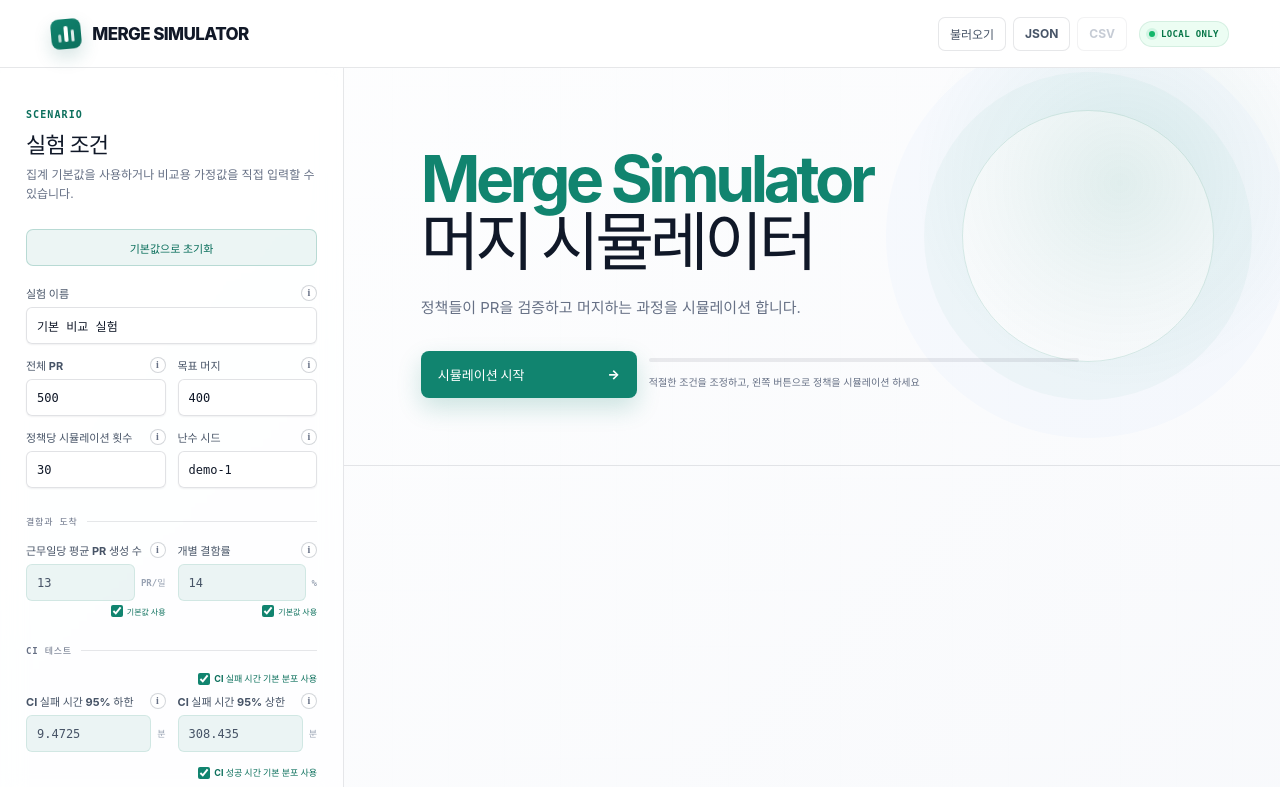
it: replays the selected experiment snapshot by policy instance id
The image size is (1280, 787).
Click the button "시뮬레이션 시작 →" at (529, 374), box left=421, top=351, right=637, bottom=398
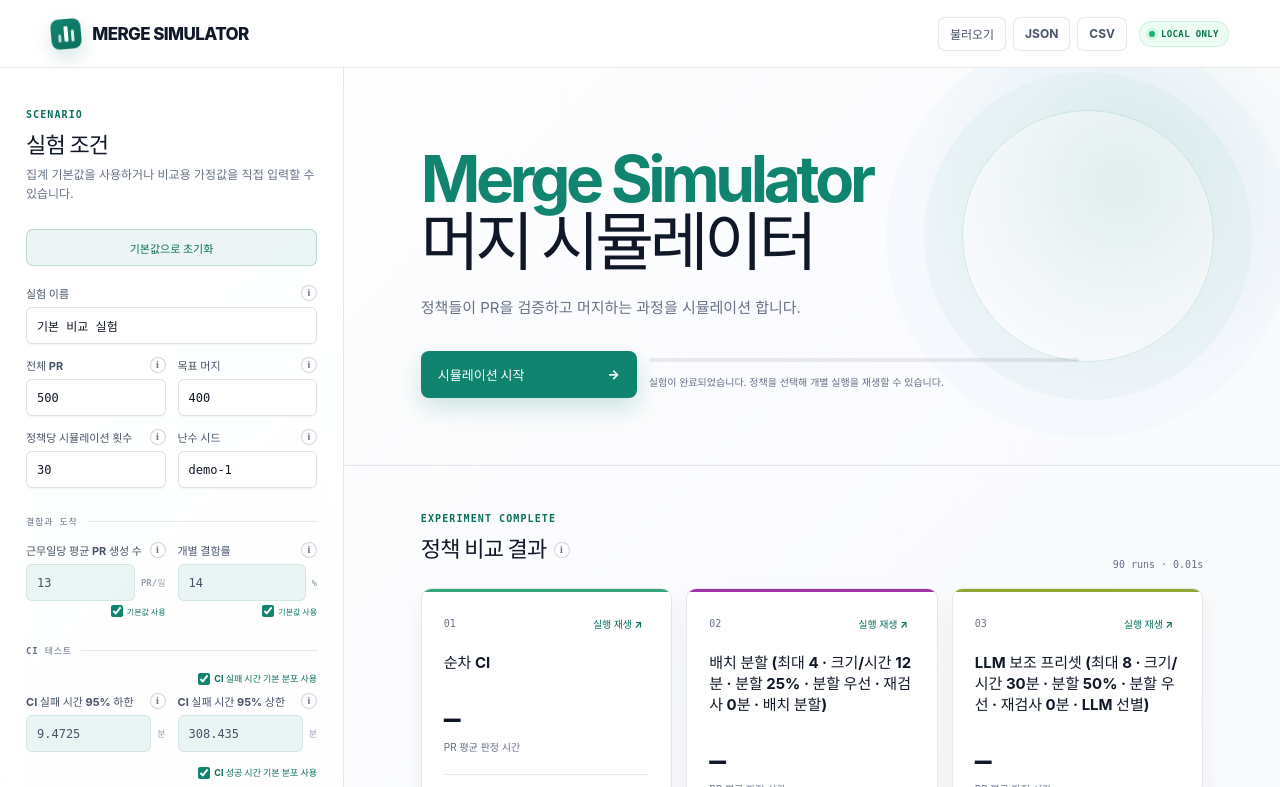
Result: the heading "정책 비교 결과" is shown at left=421, top=531, right=546, bottom=563
Replace the text in the number field labelled "전체 PR" with "777" at (96, 398), box left=26, top=379, right=166, bottom=416
(page scrolled)
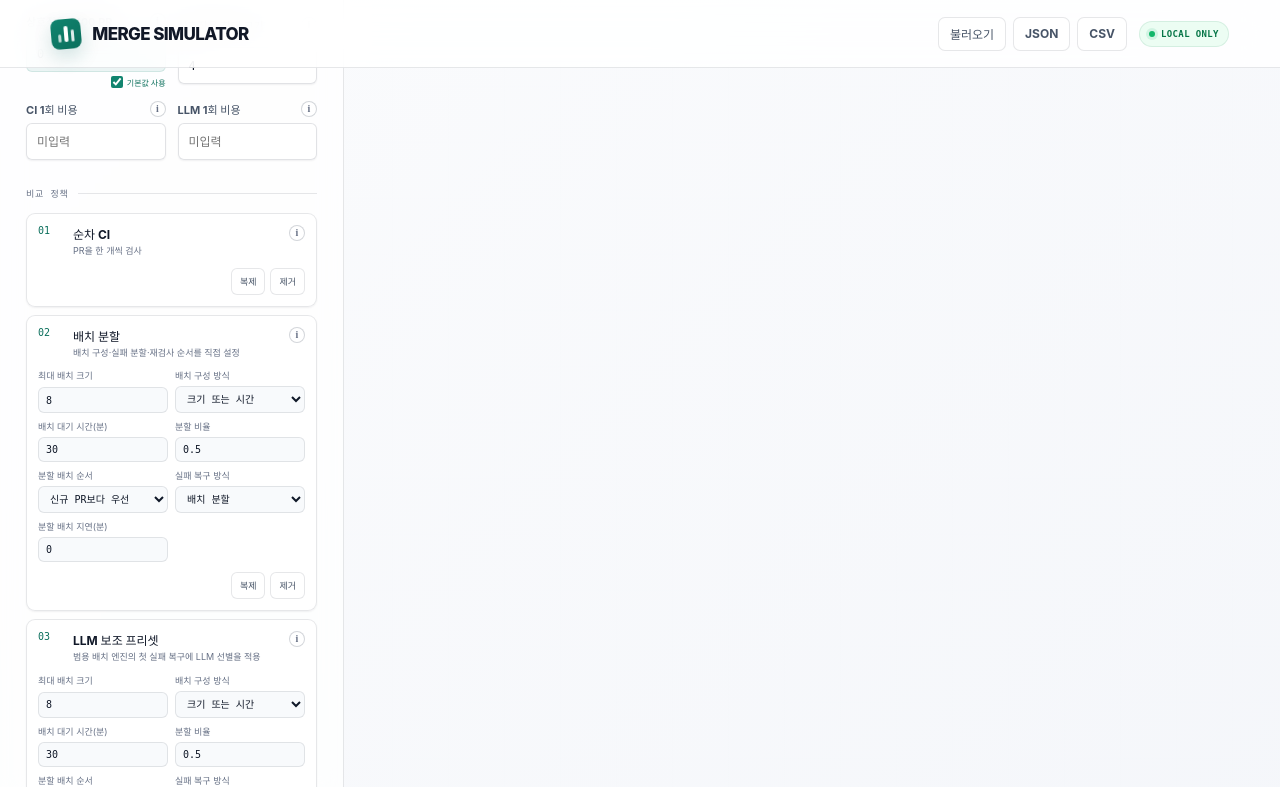
Replace the text in the number field named "2번 배치 분할 최대 배치 크기" with "16" at (103, 400), box left=38, top=387, right=168, bottom=413
(page scrolled)
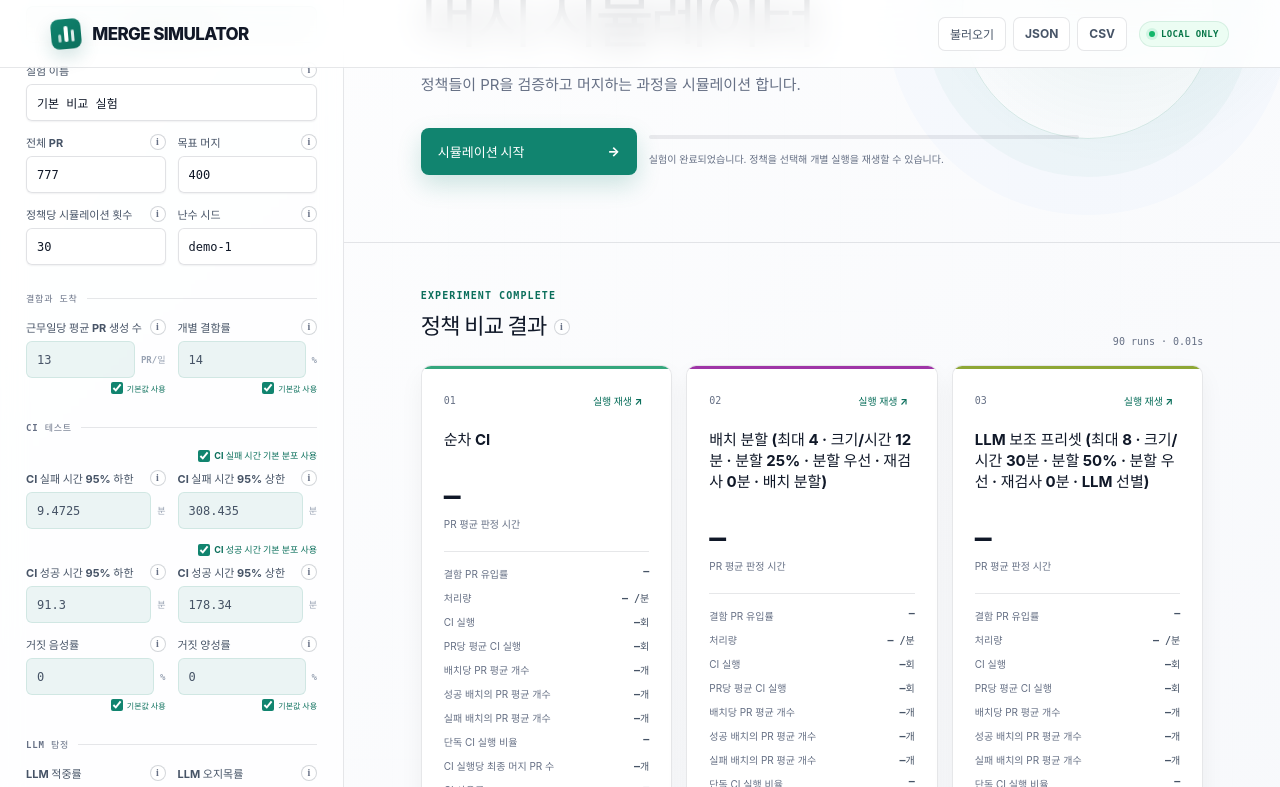
Click the 2nd button "실행 재생 ↗" at (883, 400), box left=851, top=388, right=915, bottom=413
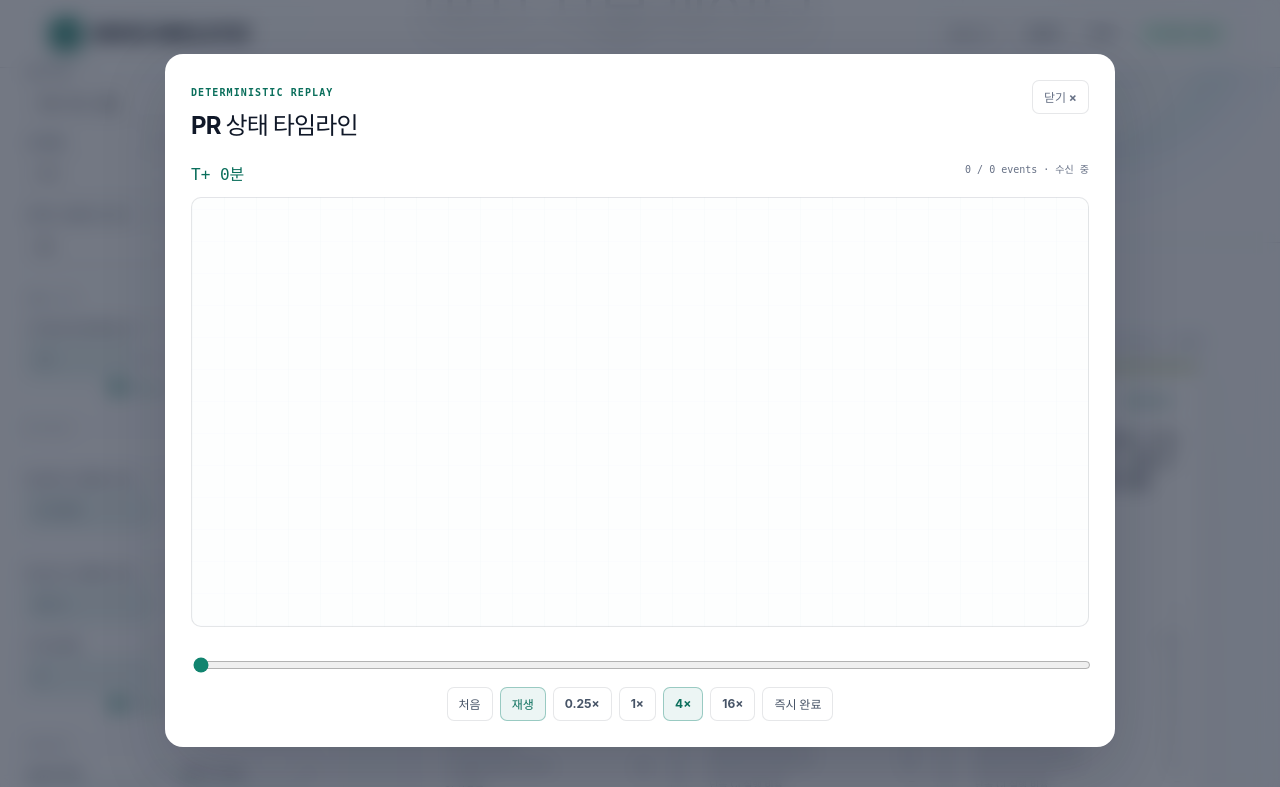
Result: the drawing named "123개 PR 상태 시각화" is shown at left=191, top=196, right=1089, bottom=626
